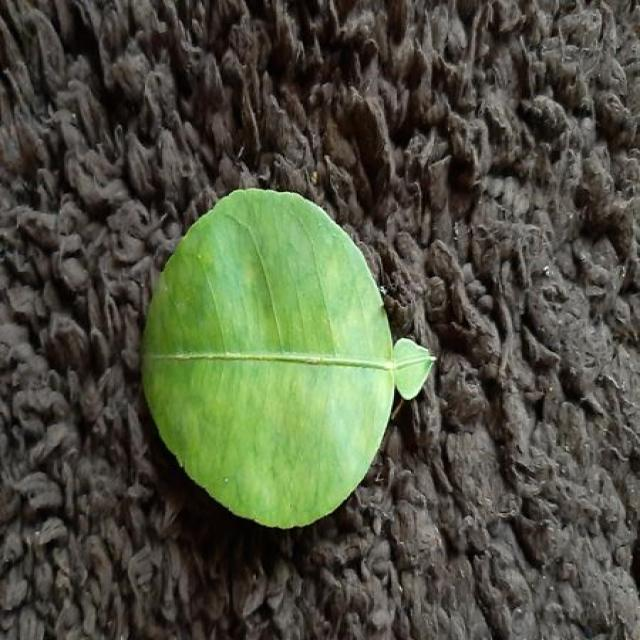lemon: (143, 189, 435, 528)
